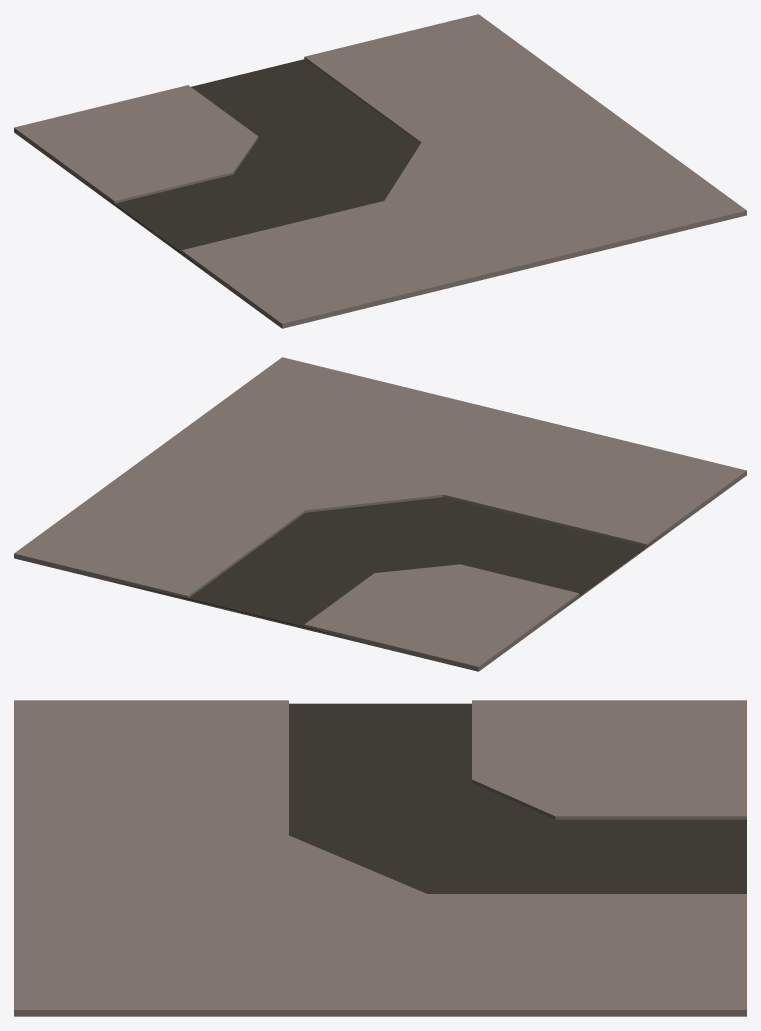
File: Env_Street_Curve_col.fbx
3 views of the same model, one above another, from view 1: azimuth 30°, elevation 25°; view 2: azimuth 150°, elevation 25°; view 3: azimuth 270°, elevation 25° (orthographic). The views are drawn at different scales.
Parts seen in each view (by area): view 1: Env_Street_Curve_col; view 2: Env_Street_Curve_col; view 3: Env_Street_Curve_col.
Boxes of the visible parts, x1=… form: Env_Street_Curve_col: x1=14, y1=14, x2=746, y2=328; Env_Street_Curve_col: x1=14, y1=357, x2=746, y2=671; Env_Street_Curve_col: x1=14, y1=700, x2=746, y2=1016.
Size of the model in its own units: 2000 by 20 by 2000.
